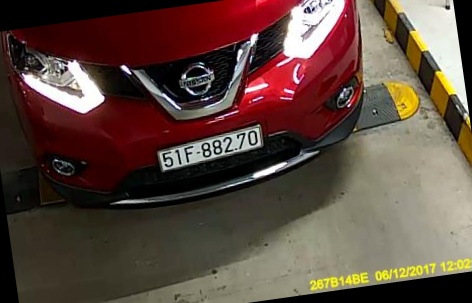plate: (146, 124, 269, 172)
